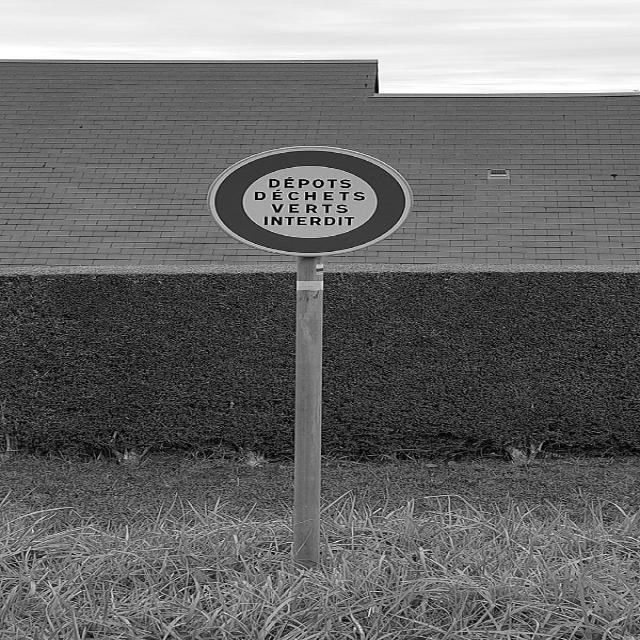forbidden: (209, 142, 415, 256)
